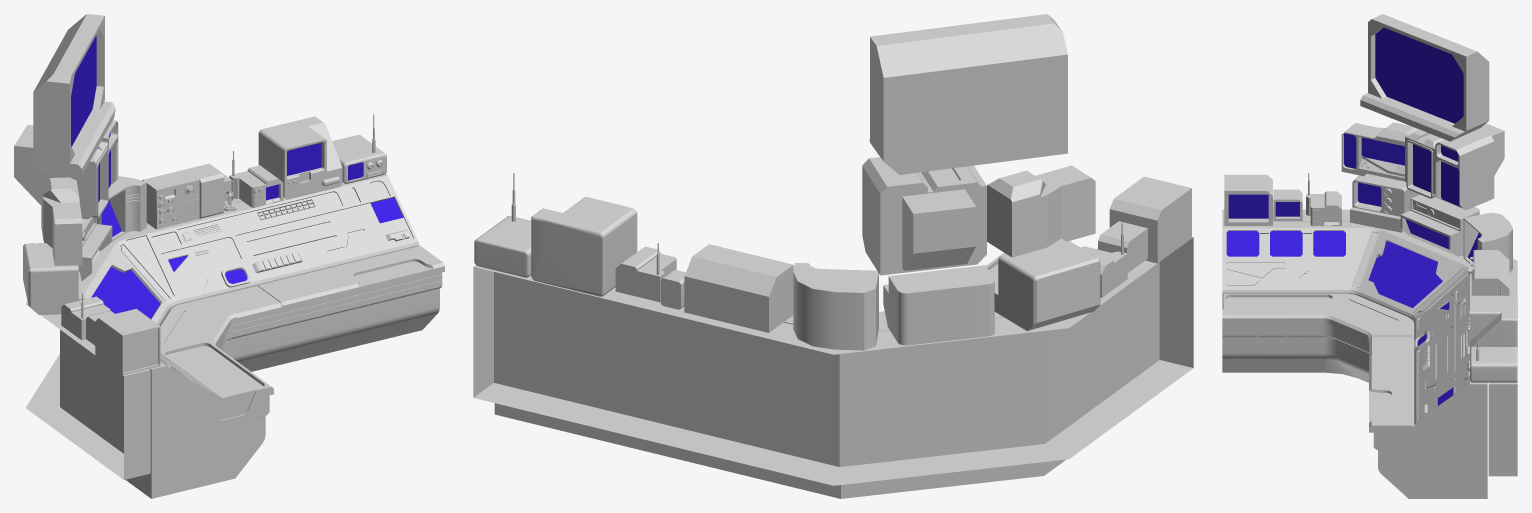
File: radiostation.fbx
3 views of the same model, side by side, from view 1: azimuth 30°, elevation 25°; view 2: azimuth 150°, elevation 25°; view 3: azimuth 270°, elevation 25° (orthographic). The views are drawn at different scales.
Visible parts, largest first — view 1: radiostation; view 2: radiostation; view 3: radiostation.
Part boxes in pixels (<box>): radiostation: <box>14,14,444,498</box>; radiostation: <box>473,14,1193,498</box>; radiostation: <box>1222,14,1517,498</box>.
Bounding box in the file's own units: 297 × 247 × 207.
